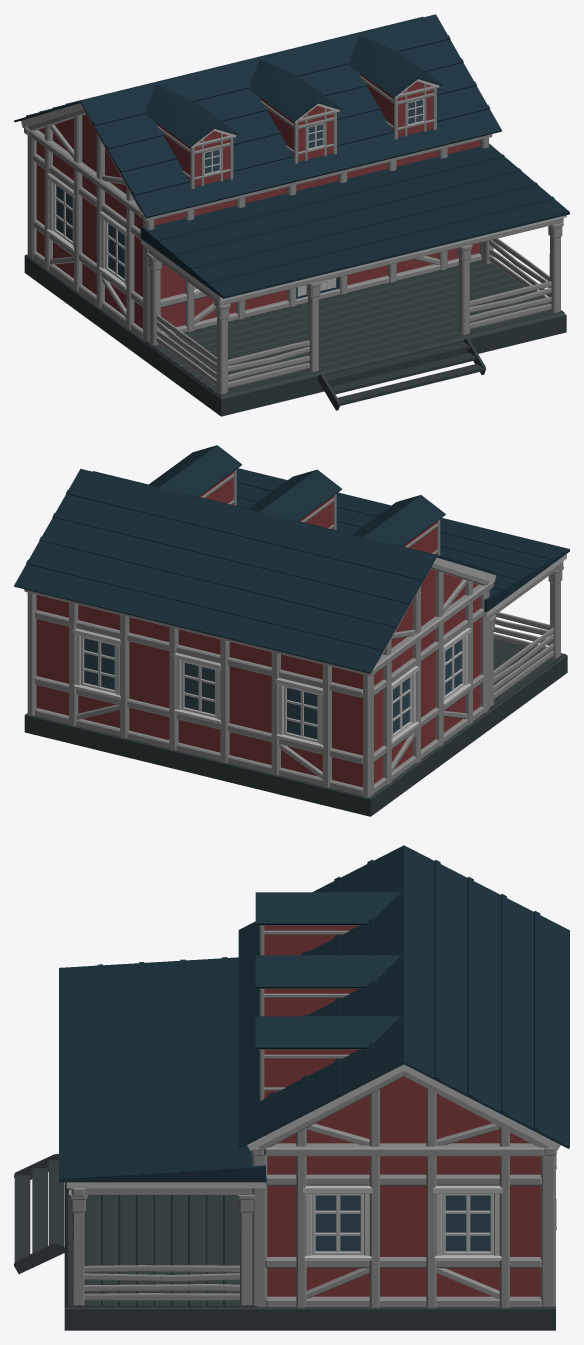
Rendered from house_09.glb.
3 renders of one model, top to bottom at view 1: azimuth 30°, elevation 25°; view 2: azimuth 150°, elevation 25°; view 3: azimuth 270°, elevation 25°, orthographic. The views are drawn at different scales.
Parts seen in each view (by area): view 1: house_09; view 2: house_09; view 3: house_09.
Part boxes in pixels (bbox=[...]): house_09: bbox=[14, 14, 569, 416]; house_09: bbox=[14, 445, 569, 816]; house_09: bbox=[14, 845, 569, 1330].
Size of the model in its own units: 10.64 by 6.34 by 11.53.
Materials: 1 (1 with a texture image).
